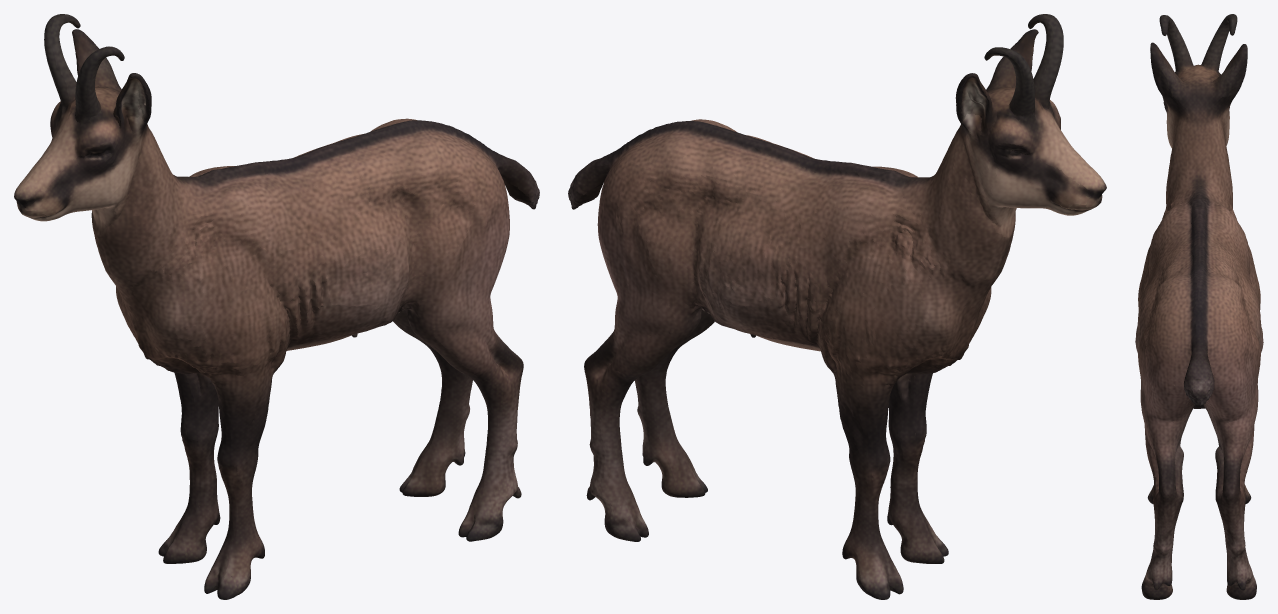
File: task-4902685.glb
The picture shows the model from 3 angles, left to right: view 1: azimuth 30°, elevation 25°; view 2: azimuth 150°, elevation 25°; view 3: azimuth 270°, elevation 25°; orthographic projection. The views are drawn at different scales.
Visible parts, largest first — view 1: world; view 2: world; view 3: world.
Boxes of the visible parts, bbox=[...] form: world: bbox=[14, 14, 539, 599]; world: bbox=[568, 14, 1106, 599]; world: bbox=[1135, 14, 1263, 599].
Bounding box in the file's own units: 1.3 × 1.35 × 0.3546.
1 material, 1 textured.
